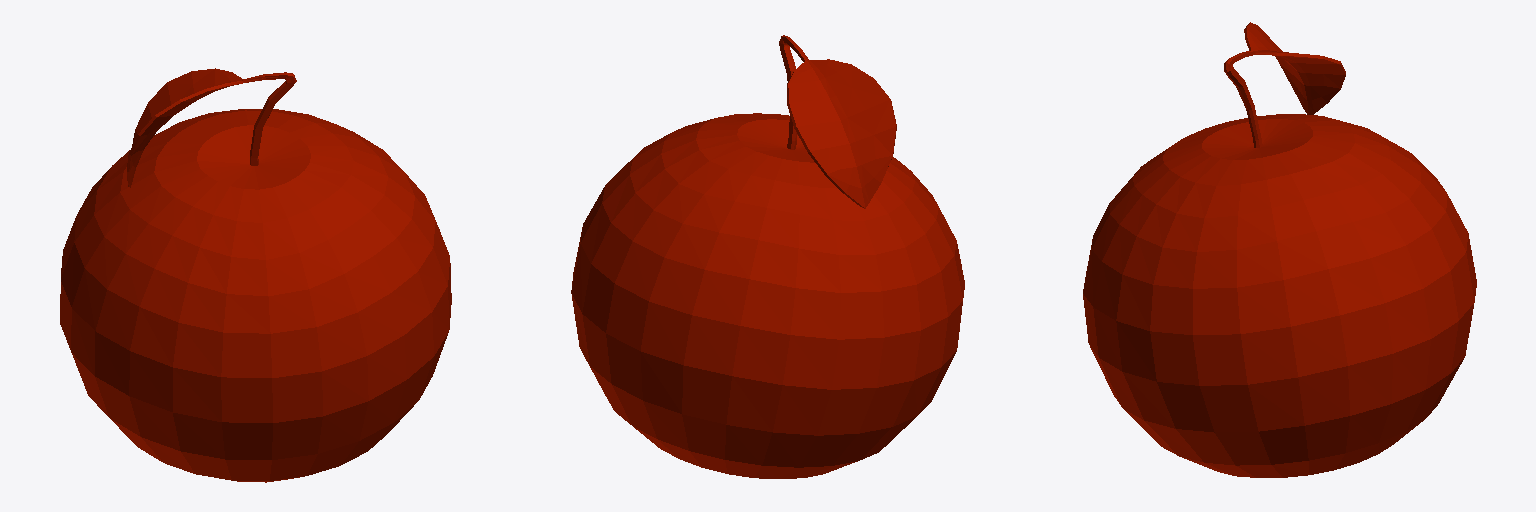
The model's file is Orange.obj.
3 views of the same model, side by side, from view 1: azimuth 30°, elevation 25°; view 2: azimuth 150°, elevation 25°; view 3: azimuth 270°, elevation 25° (orthographic).
Visible parts, largest first — view 1: Orange; view 2: Orange; view 3: Orange.
Part boxes in pixels (bbox=[...]): Orange: bbox=[60, 68, 451, 482]; Orange: bbox=[571, 35, 964, 478]; Orange: bbox=[1083, 22, 1476, 477].
Bounding box in the file's own units: 1.59 × 1.78 × 1.59.